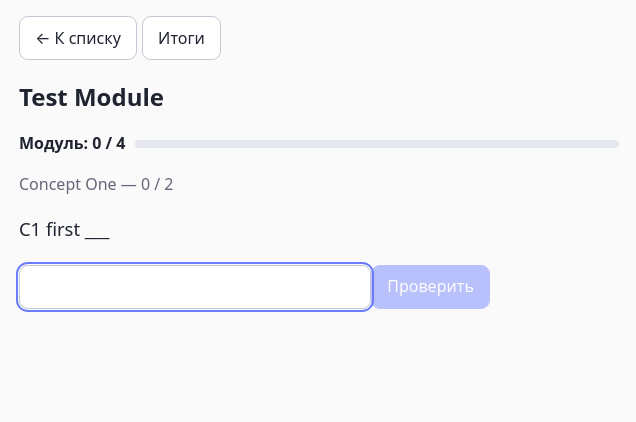
Test: Training › advances to a new exercise after answering
Type "a" into the field at x=195, y=287, box [19,265,371,309]
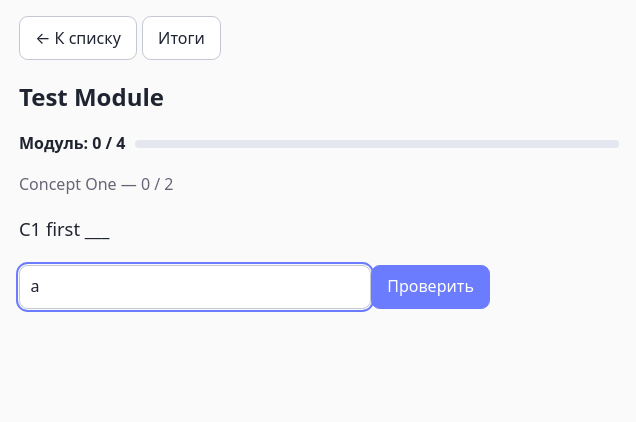
Click the button "Проверить" at x=431, y=287, box [371,265,490,309]
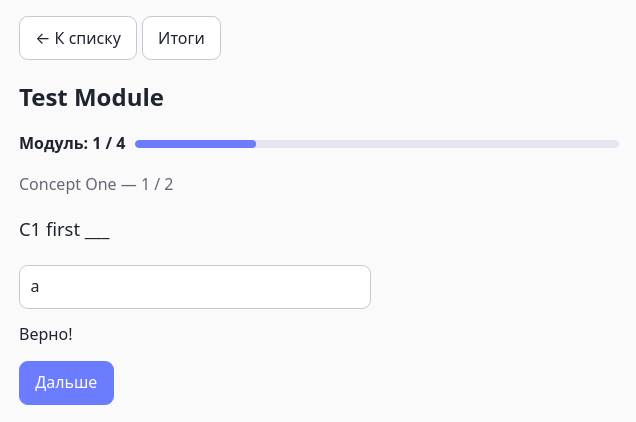
Result: the button "Дальше" is shown at [19,361,114,405]
